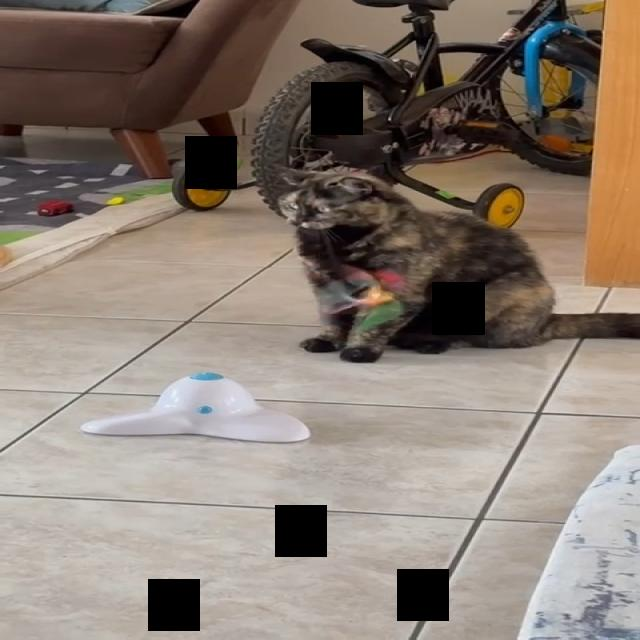authorized: (272, 163, 639, 363)
